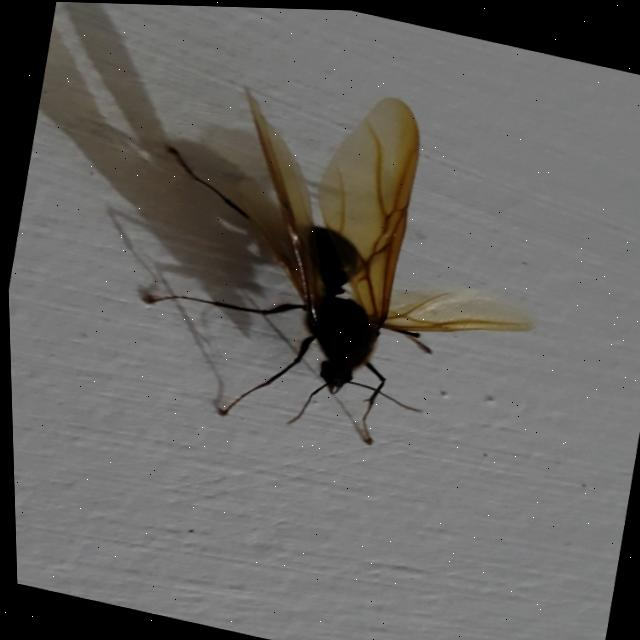Alive-Male-Alate: (114, 47, 575, 480)
